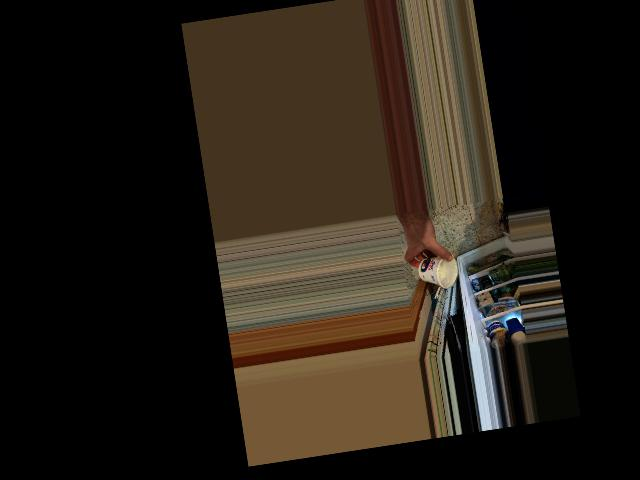cotage: (416, 249, 452, 289)
